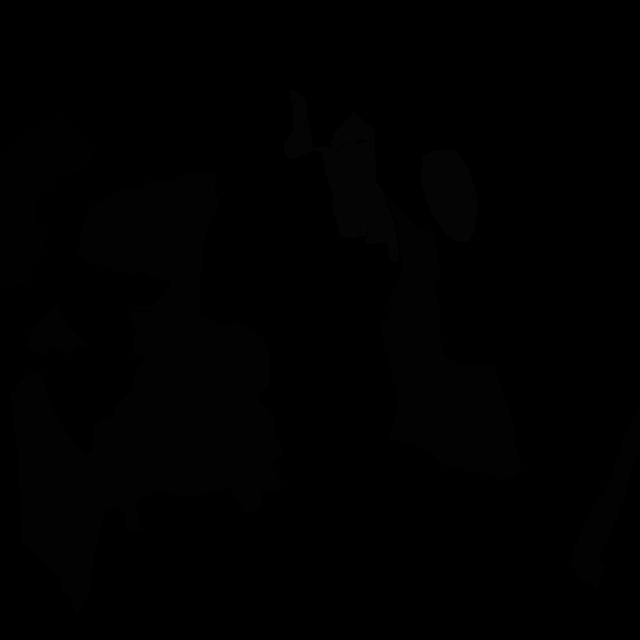cardboard: (86, 317, 284, 534), (72, 170, 220, 356), (9, 372, 109, 614), (567, 368, 640, 591), (389, 360, 523, 480), (380, 187, 452, 394), (25, 303, 89, 358)
rigid_plastic: (0, 115, 96, 291)
soft_plastic: (284, 90, 377, 239), (422, 149, 479, 242), (366, 180, 400, 262), (329, 111, 375, 154)
